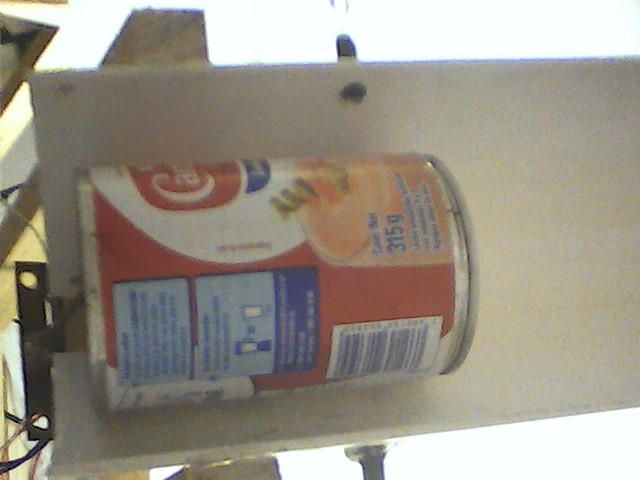lata: (66, 148, 492, 417)
